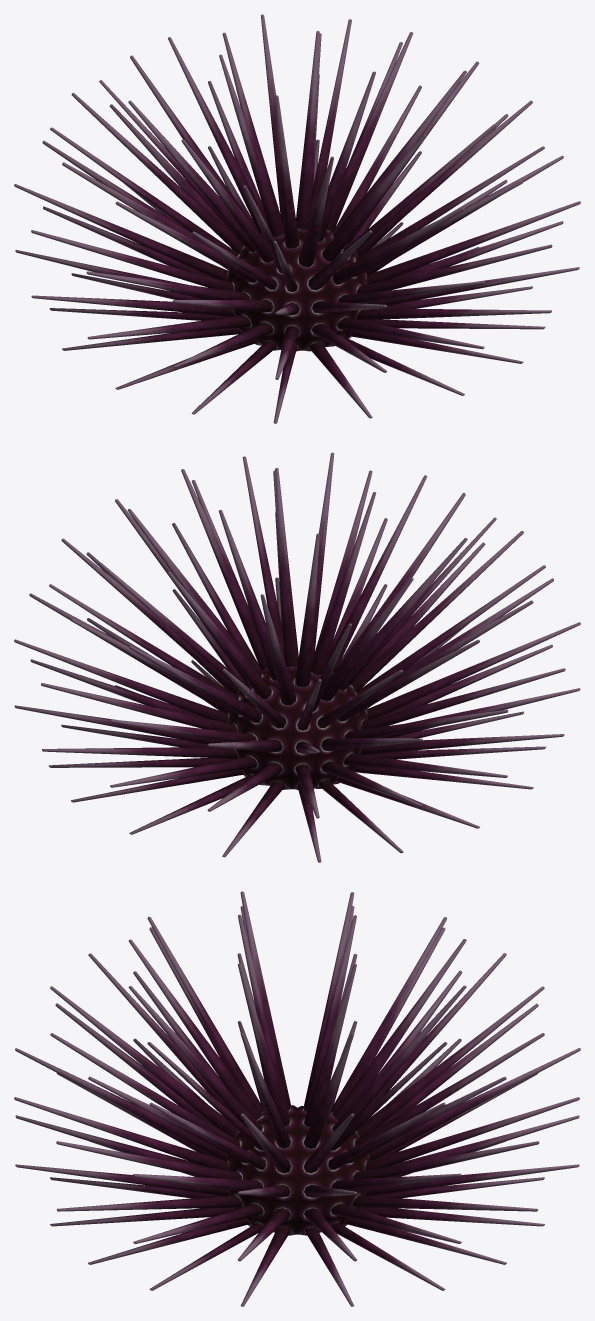
The model's file is SeaUrchin_L.fbx.
3 renders of one model, top to bottom at view 1: azimuth 30°, elevation 25°; view 2: azimuth 150°, elevation 25°; view 3: azimuth 270°, elevation 25°, orthographic. The views are drawn at different scales.
Visible parts, largest first — view 1: SeaUrchin_L_LOD0; view 2: SeaUrchin_L_LOD0; view 3: SeaUrchin_L_LOD0.
Boxes of the visible parts, box(x1,y1,x2,y2) form: SeaUrchin_L_LOD0: box(14, 14, 580, 423); SeaUrchin_L_LOD0: box(14, 452, 580, 862); SeaUrchin_L_LOD0: box(14, 891, 580, 1306).
Size of what is drawn, in the model's own units: 0.7178 by 0.7178 by 0.3827.
